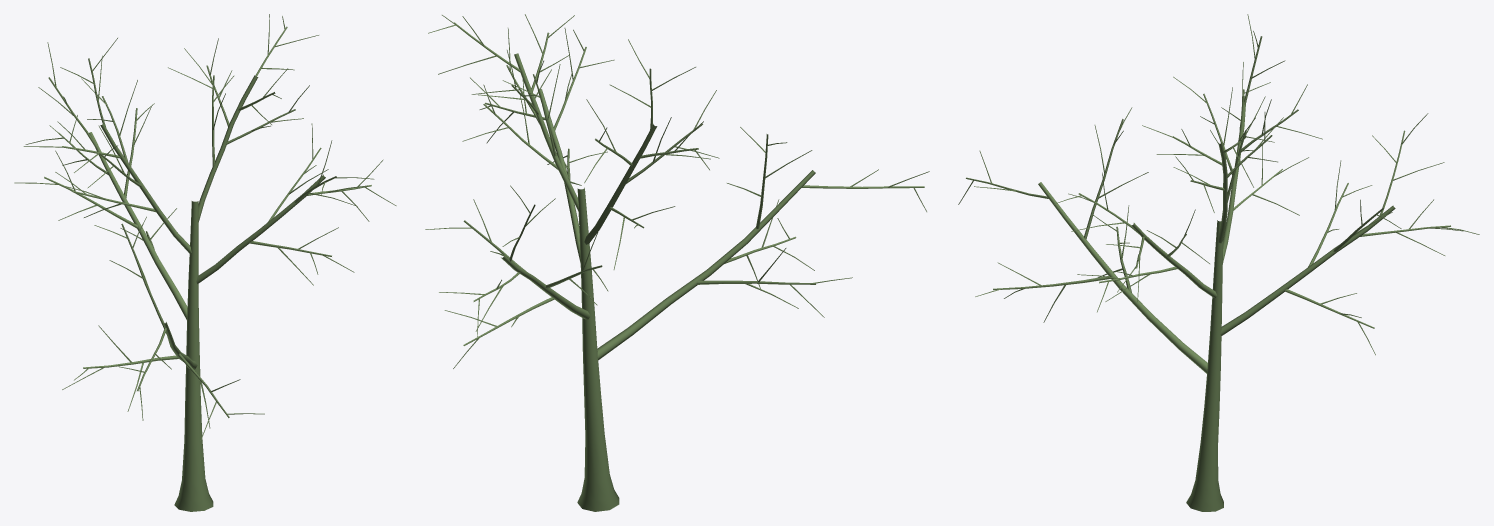
File: tree_s1_lod0.glb
3 views of the same model, side by side, from view 1: azimuth 30°, elevation 25°; view 2: azimuth 150°, elevation 25°; view 3: azimuth 270°, elevation 25° (orthographic). The views are drawn at different scales.
Size of the model in its own units: 6.65 by 8.43 by 8.85.
